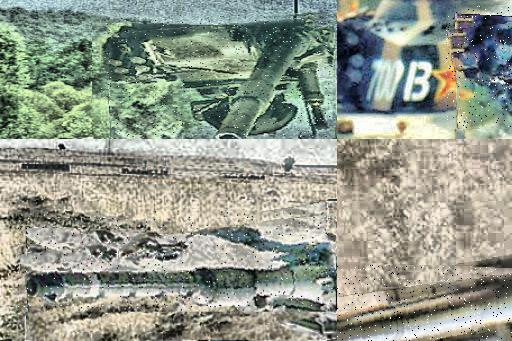tanks: (20, 213, 338, 313), (102, 17, 332, 139), (338, 1, 512, 140), (338, 270, 512, 341), (447, 24, 512, 86), (70, 139, 92, 140)
